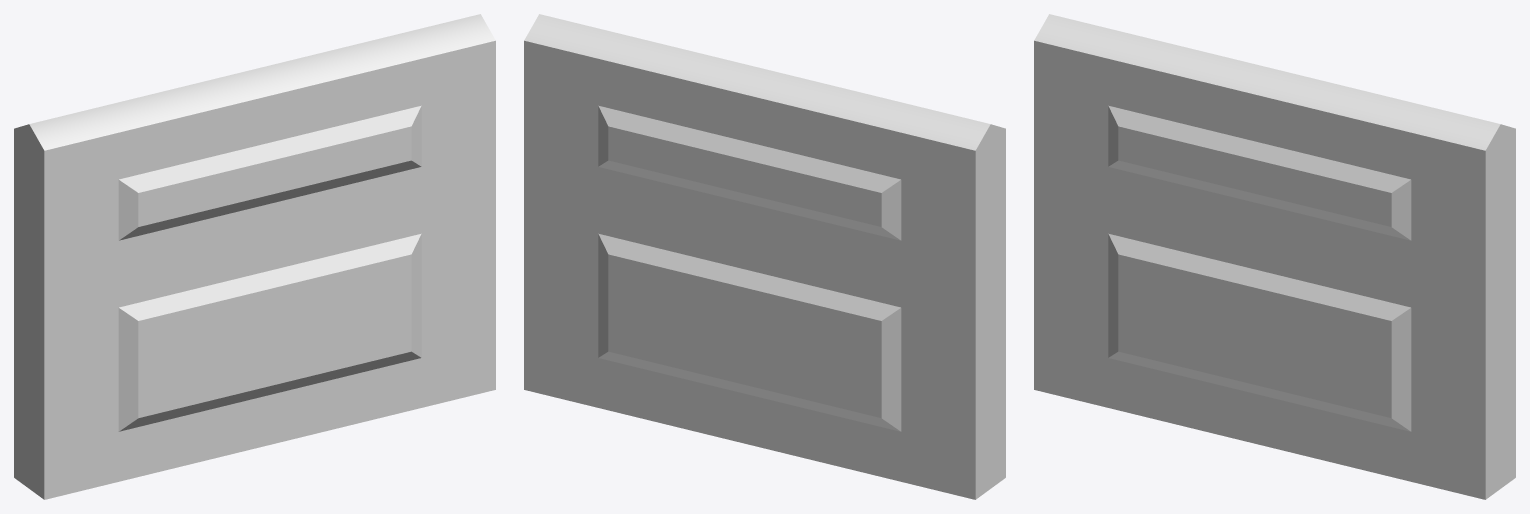
The model's file is Itr_Bed_Single_back_04.FBX.
3 views of the same model, side by side, from view 1: azimuth 30°, elevation 25°; view 2: azimuth 150°, elevation 25°; view 3: azimuth 330°, elevation 25° (orthographic).
Visible parts, largest first — view 1: Itr_Bed_Single_back_04; view 2: Itr_Bed_Single_back_04; view 3: Itr_Bed_Single_back_04.
Part boxes in pixels (box(x1,y1,x2,y2)): Itr_Bed_Single_back_04: box(14, 14, 495, 499); Itr_Bed_Single_back_04: box(524, 14, 1005, 499); Itr_Bed_Single_back_04: box(1034, 14, 1515, 499).
Size of the model in its own units: 48.44 by 37.4 by 7.45.
